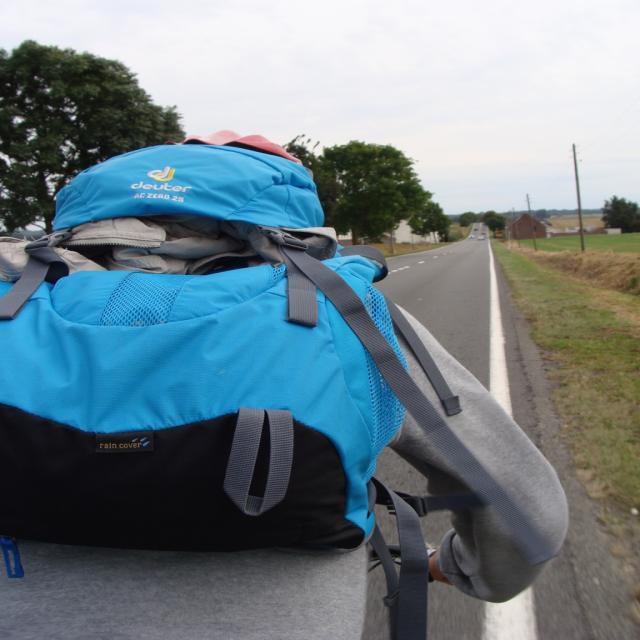backpack: (0, 148, 374, 557)
